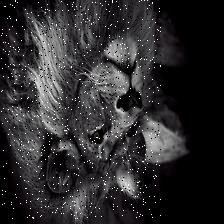Lion: (1, 0, 161, 219)
